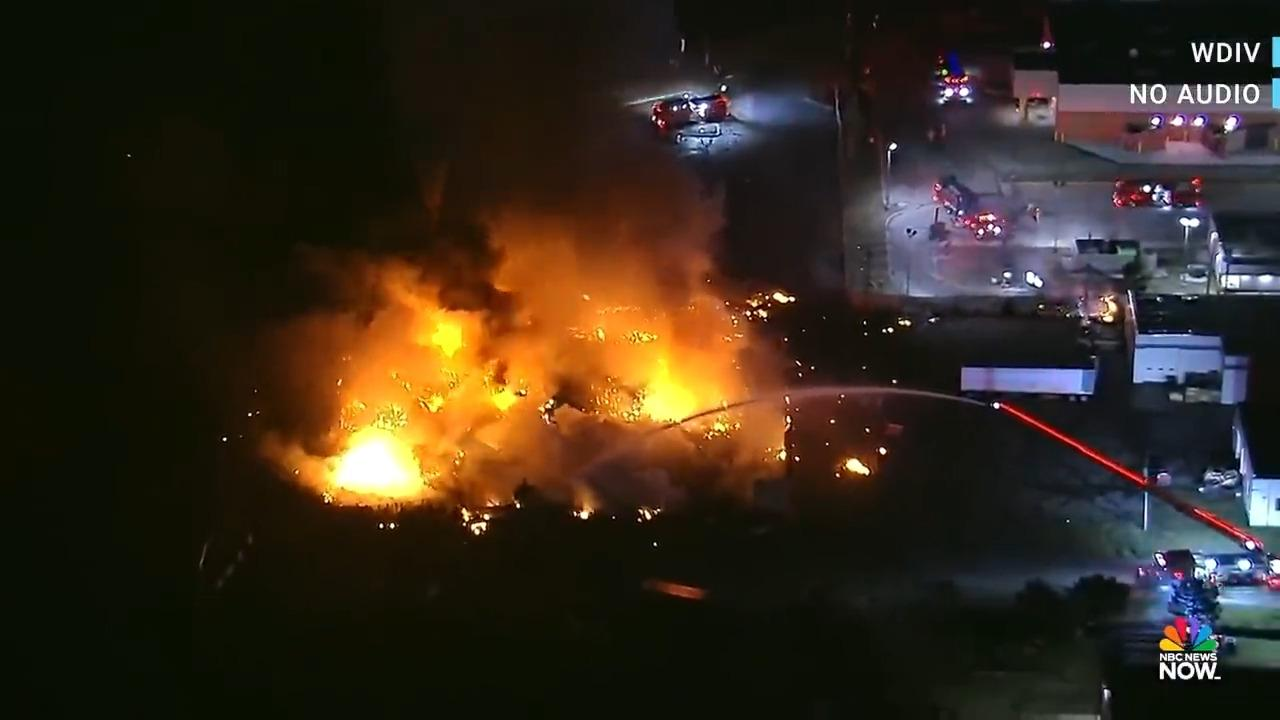fire: (293, 321, 715, 513), (827, 441, 894, 492)
